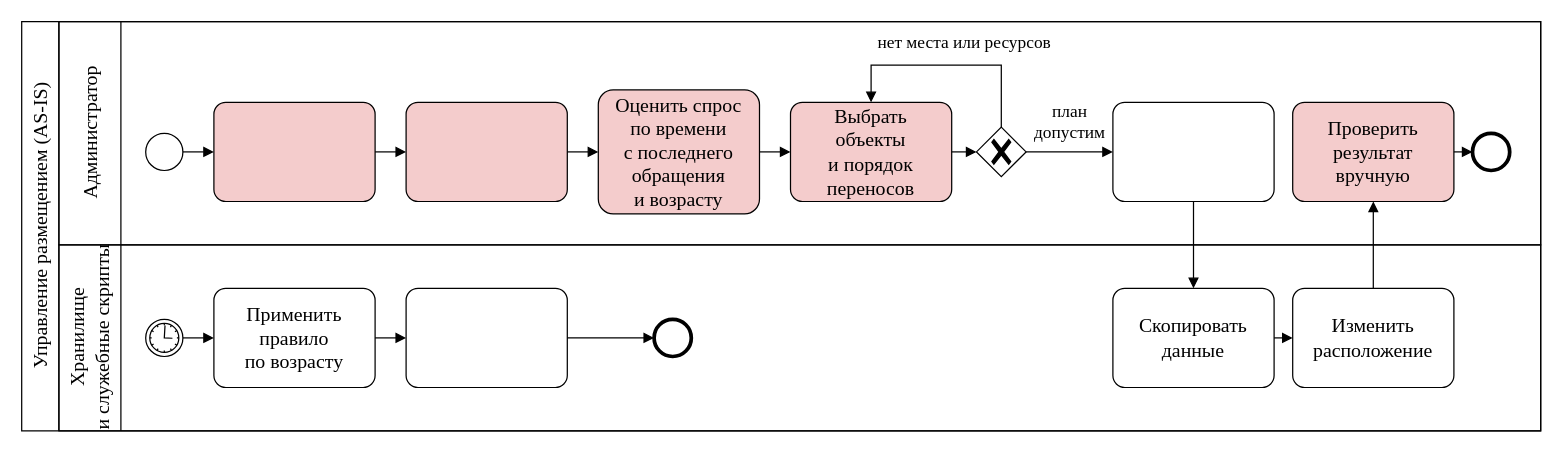
This 1562x453 diagram has some shape labels left out. Each missing label, with the box of its shape:
Выгрузить журналы и метрики: (405, 101, 567, 202)
Запустить копирование: (1112, 101, 1274, 202)
Ожидать предупреждения или проверки: (213, 101, 375, 202)
Перенести объекты в COLD: (405, 287, 567, 388)
